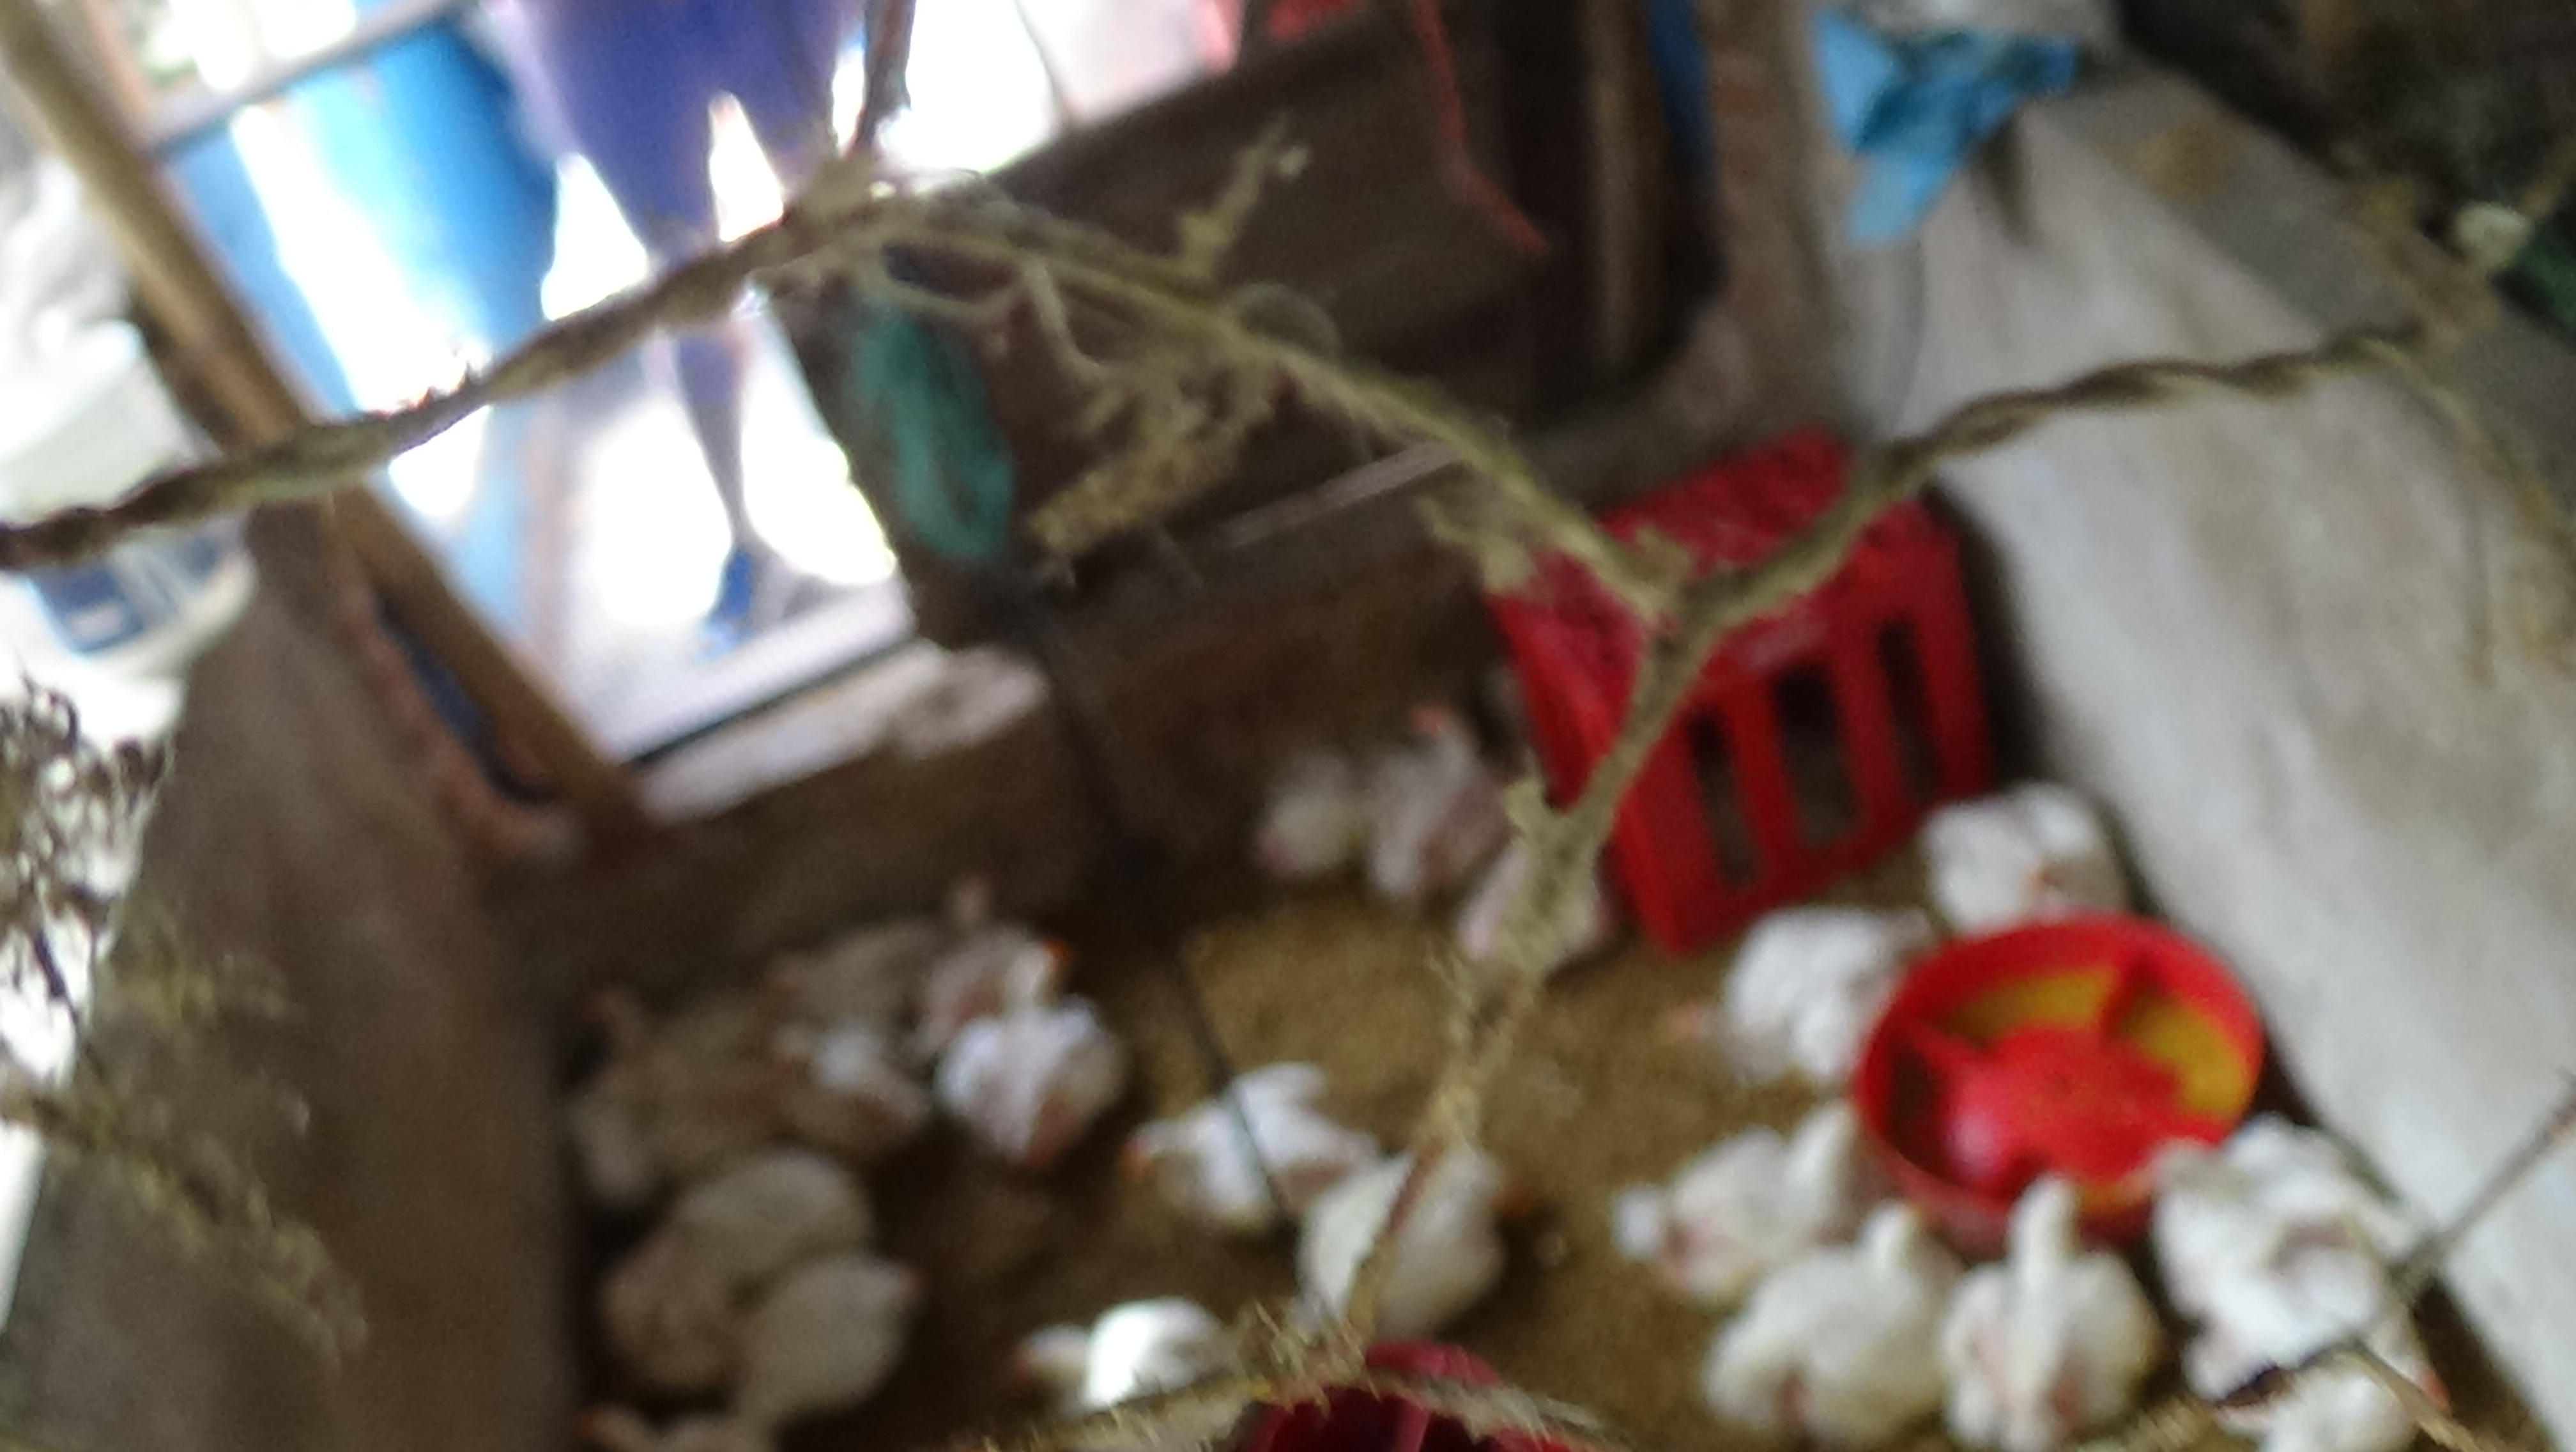Pollos: (1914, 1160, 2151, 1452), (1267, 1130, 1532, 1346), (2114, 1116, 2440, 1289), (1592, 1103, 1888, 1289), (1714, 1213, 1936, 1418), (1106, 1055, 1362, 1231), (720, 1227, 934, 1431), (948, 917, 1125, 1163), (1714, 896, 1950, 1078), (1902, 795, 2127, 944), (1352, 698, 1507, 900), (766, 1002, 922, 1169), (568, 979, 754, 1108), (1019, 1303, 1237, 1410), (1228, 765, 1373, 921), (741, 921, 966, 1015), (577, 1385, 833, 1452), (909, 868, 1007, 1036)
